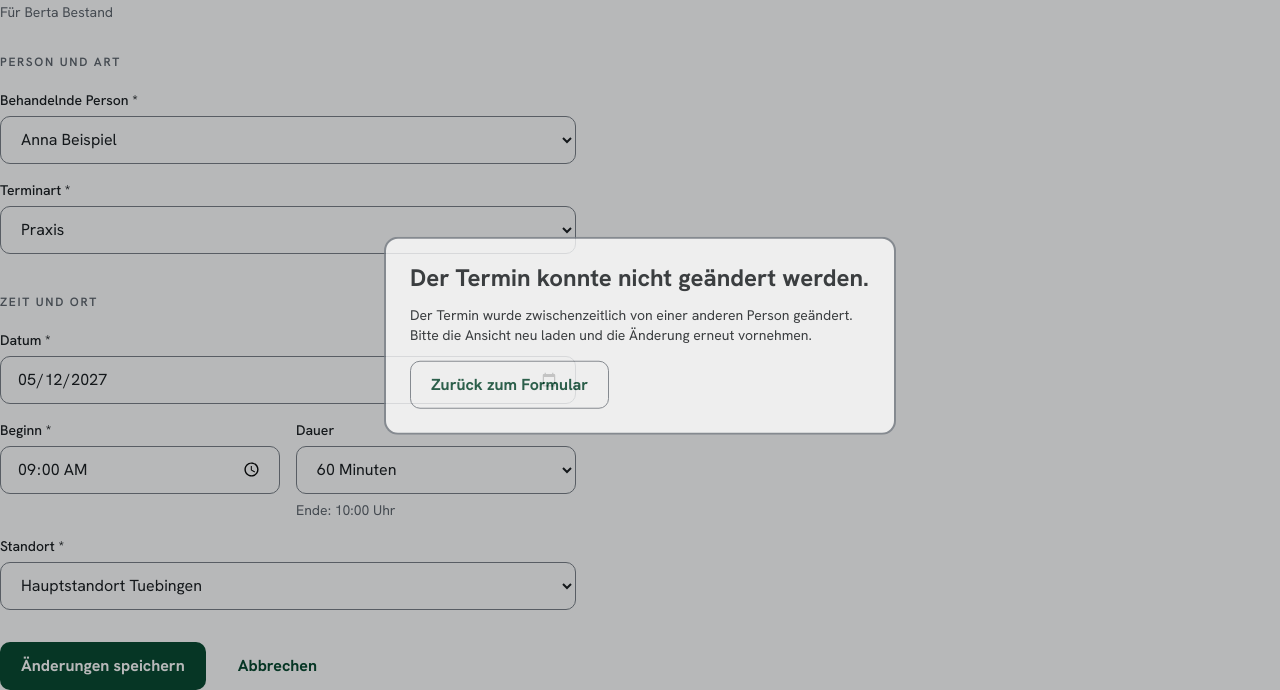
Scenario: EditAppointmentPage › zeigt eine Ueberschneidung verstaendlich an
(page scrolled)
Click the button "Änderungen speichern".
click(103, 666)  # box [0, 642, 206, 689]
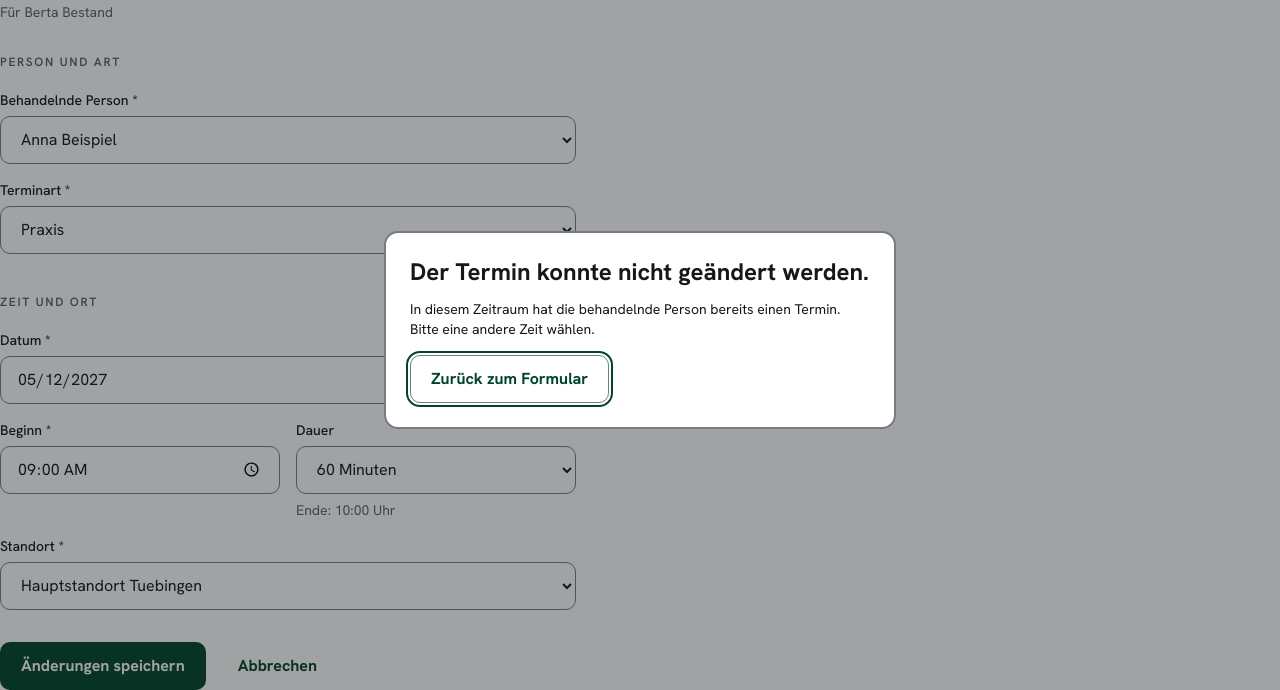
Now the text "hat die behandelnde Person bereits einen Termin" is shown, box [410, 300, 840, 338]
